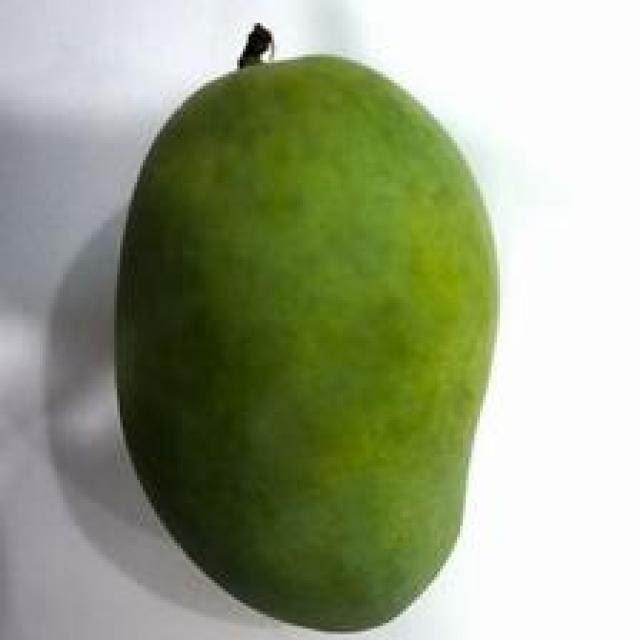Good_Mango: (111, 54, 500, 637)
